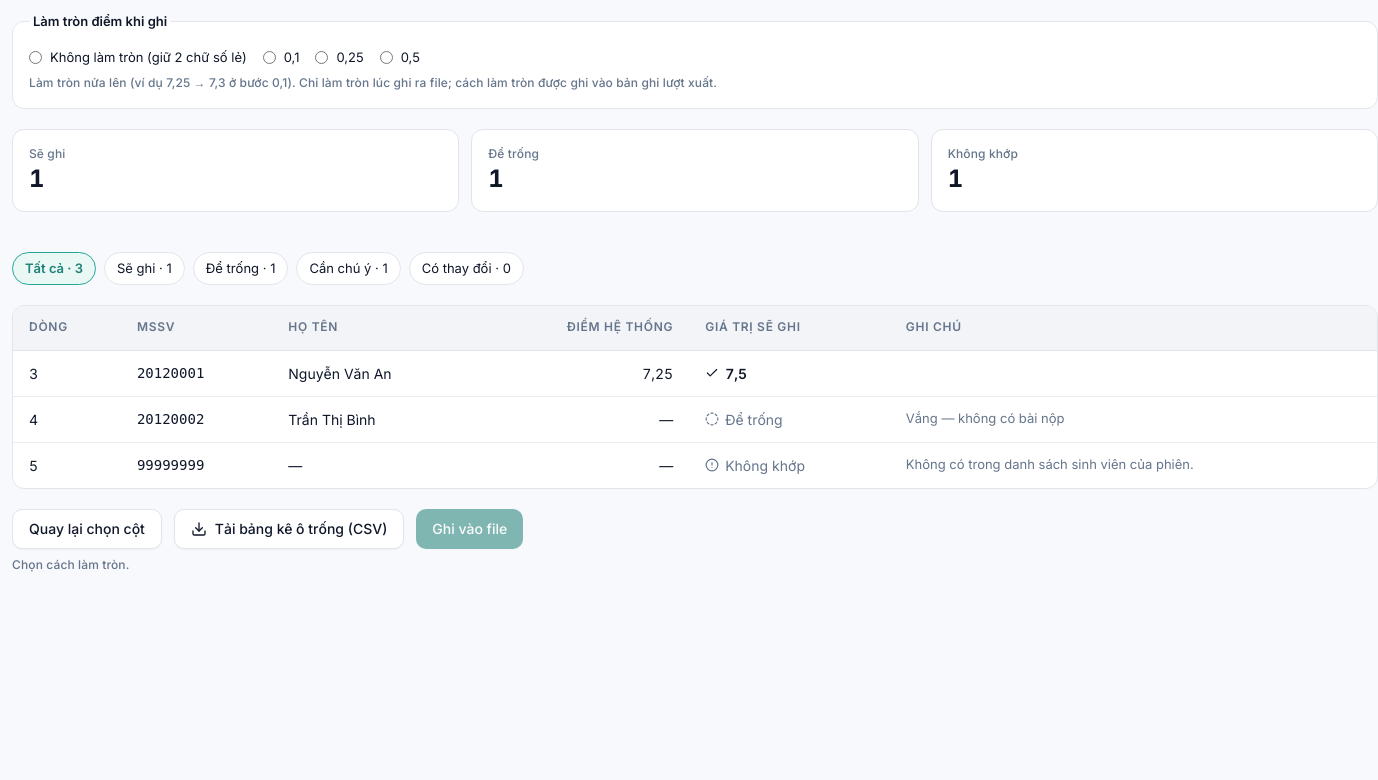
Test: StepPreview — the three numbers and the table (spec §3.6) › the chips filter the rows
The width and height of the screenshot is (1378, 780).
Click the button "Để trống · 1" at (241, 268), box [193,252,288,285]
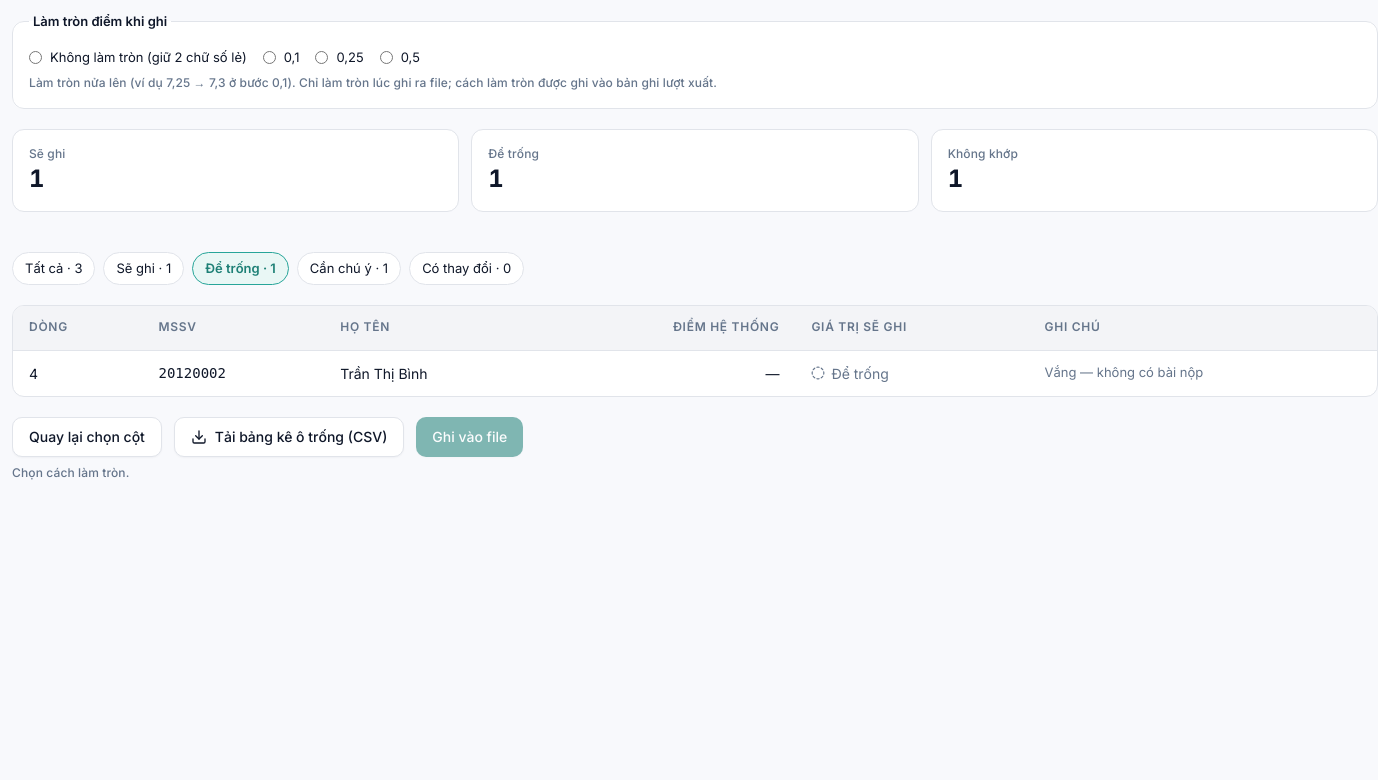
Expected: the text "20120002" is shown, [142,350,324,396]
Now the text "20120001" is gone
